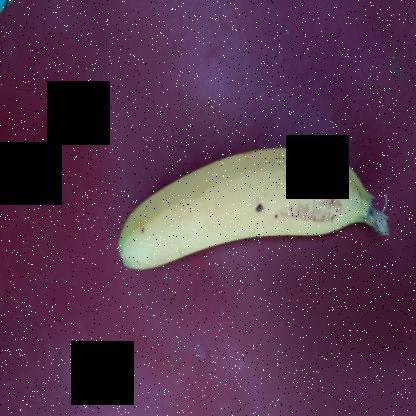freshripe: (111, 135, 380, 282)
